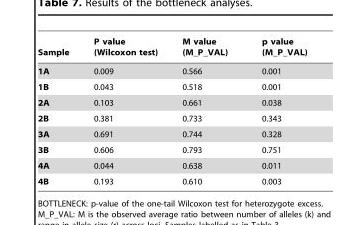table: (37, 36, 306, 185)
table column: (80, 36, 169, 185), (169, 36, 244, 185), (244, 36, 306, 185), (37, 36, 80, 185)
table column header: (37, 36, 306, 61)
table row: (37, 36, 306, 61), (37, 61, 306, 78), (37, 78, 306, 94), (37, 94, 306, 110), (37, 110, 306, 126), (37, 141, 306, 157), (37, 157, 306, 173), (37, 126, 306, 141), (37, 173, 306, 185)
